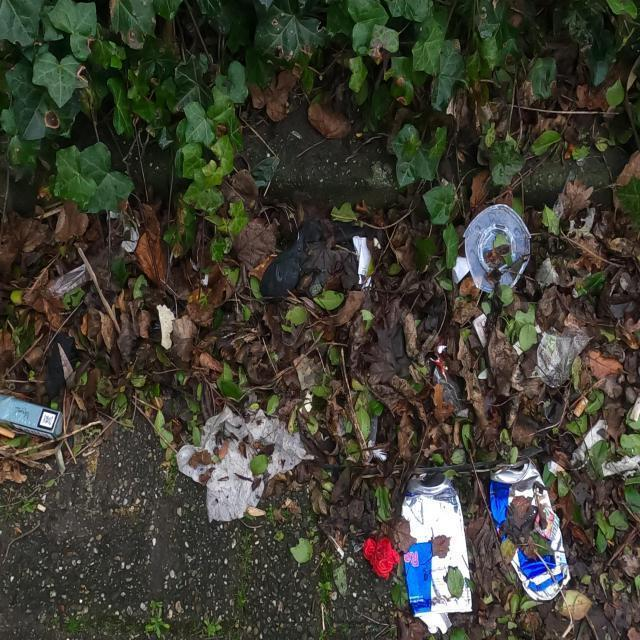Can-Metal: (394, 472, 476, 635), (489, 456, 572, 602)
